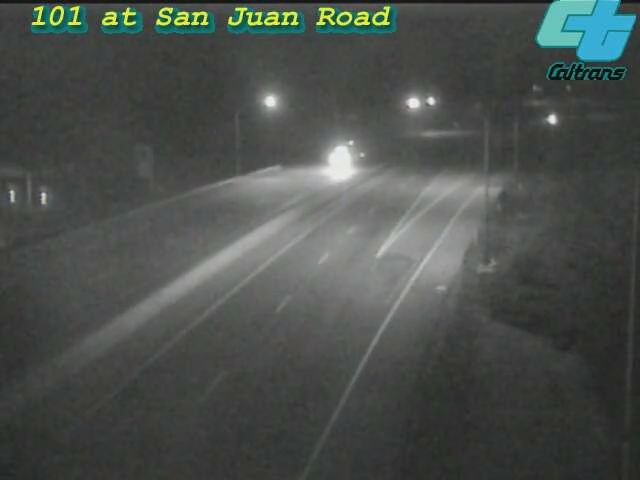vehicle: (319, 133, 369, 183), (525, 95, 575, 145)
